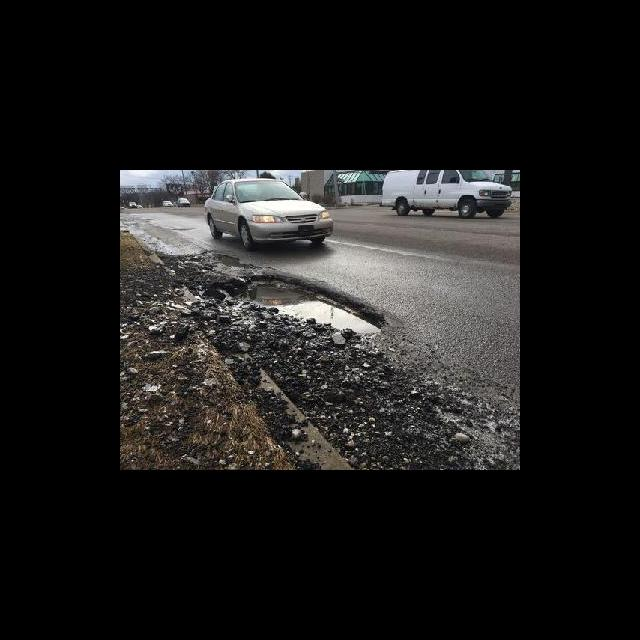lubang_kecil: (228, 269, 389, 348)
